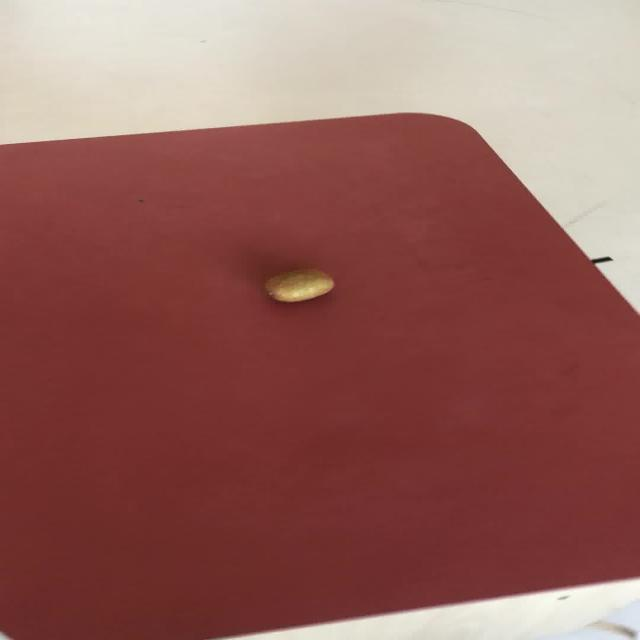kiwi: (263, 268, 334, 303)
